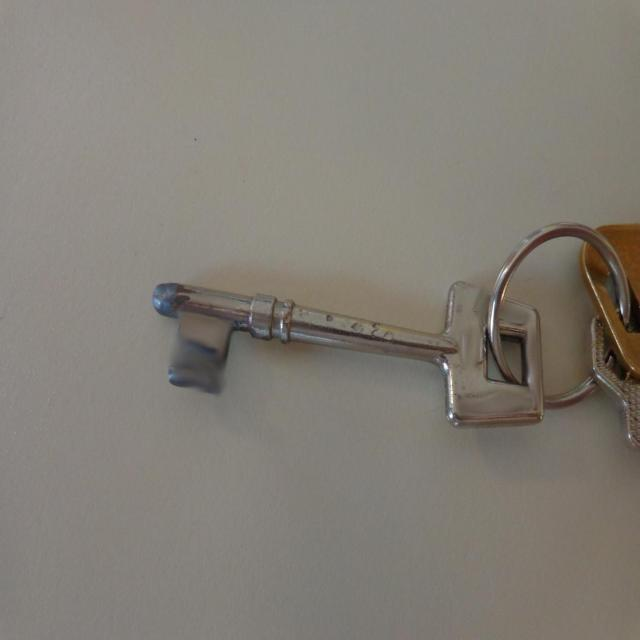Frontdoor keys: (147, 220, 580, 451)
